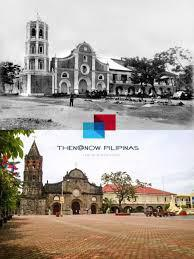barasoain_church_malolos_bulacan: (18, 135, 103, 215)
